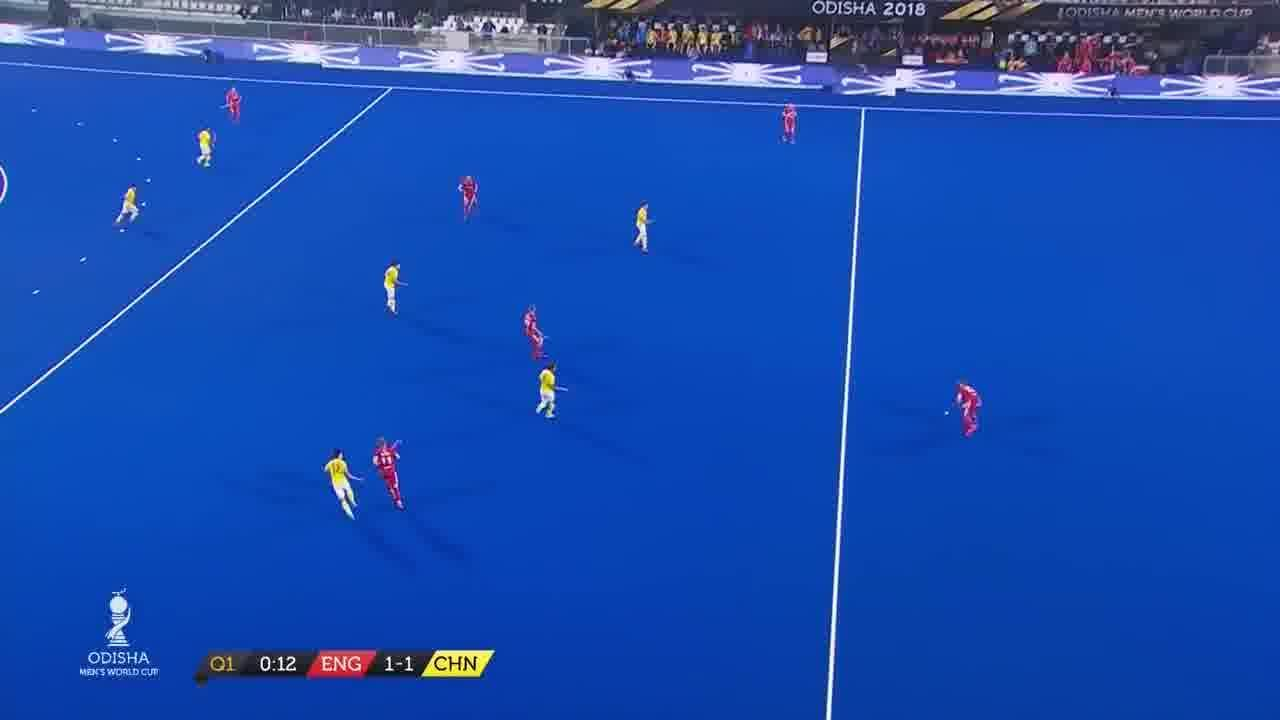ball: (942, 406, 952, 417)
